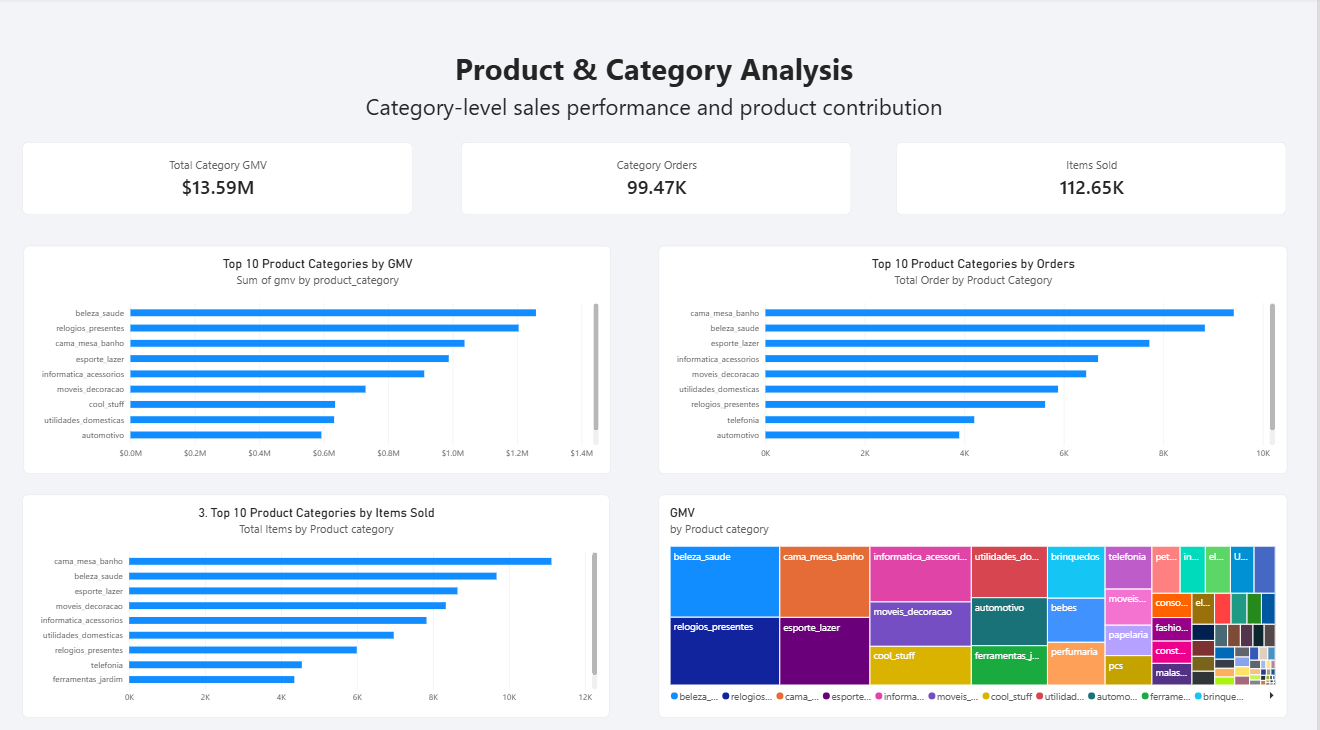

Layout of this report page (visuals, bound fields, positions):
{"tool":"powerbi","page":{"name":"Product & Category Analysis","canvas":[1920,1080],"ordinal":2},"visuals":[{"type":"textbox","box":[0,75,1920,117.5],"z":0},{"type":"textbox","box":[0,135,1920,75],"z":1000},{"type":"cardVisual","fields":{"Data":["Sum(Category Sales.gmv)"]},"box":[45,210,565,105],"z":2000},{"type":"cardVisual","fields":{"Data":["Sum(Category Sales.order_count)"]},"box":[680,210,565,105],"z":3000},{"type":"cardVisual","fields":{"Data":["Sum(Category Sales.total_items)"]},"box":[1310,210,565,105],"z":4000},{"type":"clusteredBarChart","title":"Top 10 Product Categories by GMV","fields":{"Category":["Category Sales.product_category"],"Y":["Sum(Category Sales.gmv)"]},"box":[46.7,360,850,330],"z":5000},{"type":"clusteredBarChart","title":"Top 10 Product Categories by Orders","fields":{"Category":["Category Sales.product_category"],"Y":["Sum(Category Sales.order_count)"]},"box":[966.7,360,910,330],"z":6000},{"type":"clusteredBarChart","title":"3. Top 10 Product Categories by Items Sold","fields":{"Category":["Category Sales.product_category"],"Y":["Sum(Category Sales.total_items)"]},"box":[45,720,850,323.3],"z":7000},{"type":"treemap","fields":{"Group":["Category Sales.product_category"],"Values":["Sum(Category Sales.gmv)"]},"box":[967,720,910,323],"z":8000}]}

Visuals, with their boxes in screenshot pixels (x1, y1, x2, y2), scaled from the page's 1920x1080 canvas onto the 1320x730 screenshot:
textbox: 0:51:1319:130
textbox: 0:91:1319:142
cardVisual - Sum(Category Sales.gmv): 31:142:419:213
cardVisual - Sum(Category Sales.order_count): 468:142:856:213
cardVisual - Sum(Category Sales.total_items): 901:142:1289:213
"Top 10 Product Categories by GMV" clusteredBarChart: 32:243:616:466
"Top 10 Product Categories by Orders" clusteredBarChart: 665:243:1290:466
"3. Top 10 Product Categories by Items Sold" clusteredBarChart: 31:487:615:705
treemap - Category Sales.product_category x Sum(Category Sales.gmv): 665:487:1290:705
